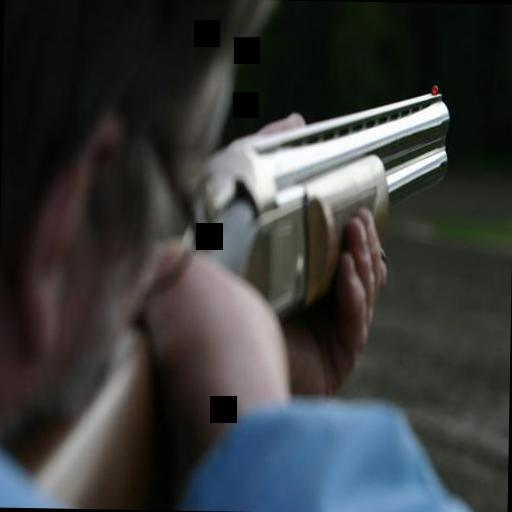Handgun: (218, 76, 454, 342)
